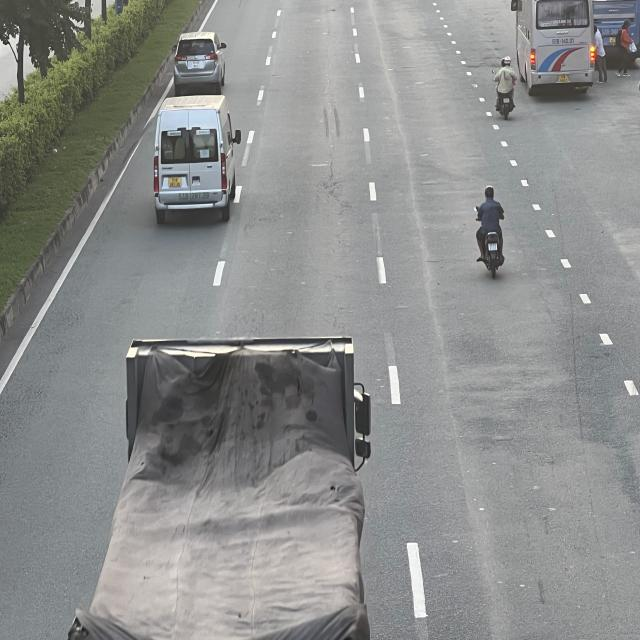car: (173, 33, 227, 95)
coach: (514, 0, 598, 95)
container: (59, 332, 367, 638)
van: (154, 104, 242, 220)
